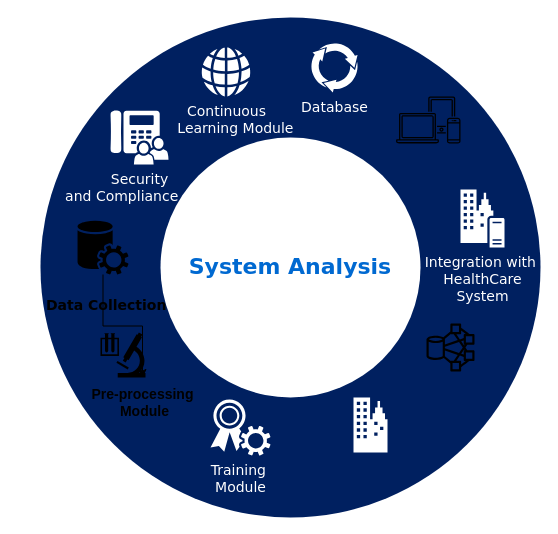
Image size: 558x534. Some labels were removed from this diagram. Each missing label, with the centre of its shape:
"Categorization Module" goes at (x=370, y=424).
"Decision Support System" goes at (x=450, y=347).
"User Interface" goes at (x=428, y=119).
